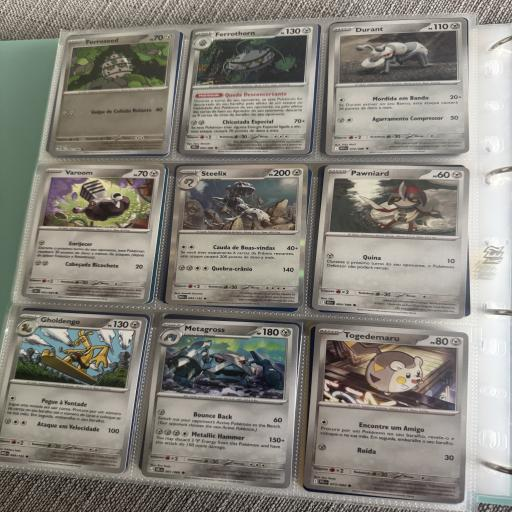card: (302, 321, 477, 503), (141, 312, 304, 489), (312, 157, 475, 319), (0, 302, 148, 475), (319, 17, 473, 159), (165, 160, 308, 308), (22, 159, 166, 304), (178, 23, 318, 155), (49, 28, 179, 157)
